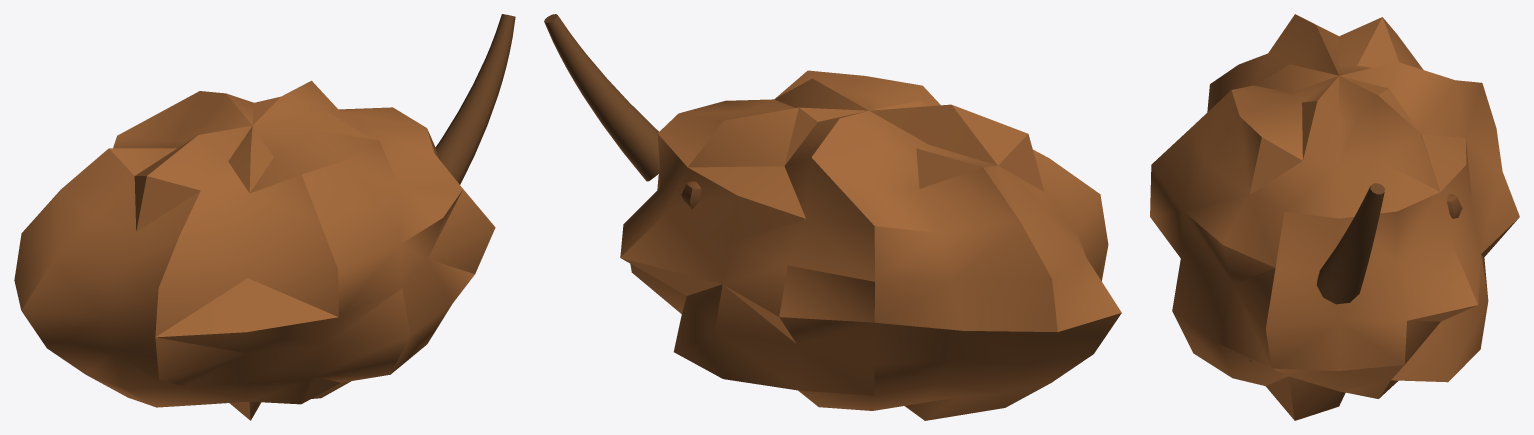
Rendered from RootTuber.fbx.
3 renders of one model, left to right at view 1: azimuth 30°, elevation 25°; view 2: azimuth 150°, elevation 25°; view 3: azimuth 270°, elevation 25°, orthographic. The views are drawn at different scales.
Visible parts, largest first — view 1: Handle, Twig; view 2: Handle, Twig; view 3: Handle, Twig.
Boxes of the visible parts, <box> form: Handle: <box>14,80,495,420</box>; Twig: <box>435,14,515,184</box>; Handle: <box>620,70,1121,420</box>; Twig: <box>544,14,659,181</box>; Handle: <box>1150,14,1519,420</box>; Twig: <box>1316,183,1384,304</box>.
Size of the model in its own units: 1.68 by 0.9552 by 0.9596.
